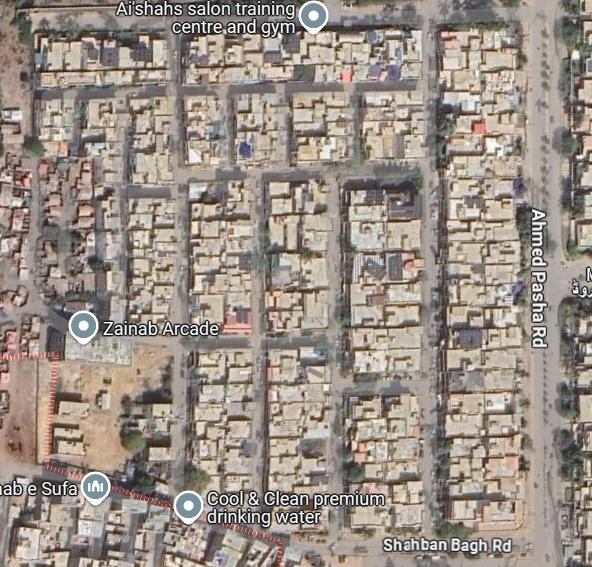Buildings: (433, 27, 522, 525), (351, 179, 425, 375), (180, 28, 421, 85), (190, 348, 257, 517), (270, 348, 331, 521), (189, 178, 252, 328), (268, 179, 328, 330), (353, 394, 420, 525), (31, 34, 168, 89), (129, 199, 174, 325), (291, 96, 351, 163), (362, 90, 418, 159), (133, 97, 173, 178), (236, 97, 275, 164), (185, 91, 219, 164), (90, 100, 119, 177), (39, 103, 72, 138)
